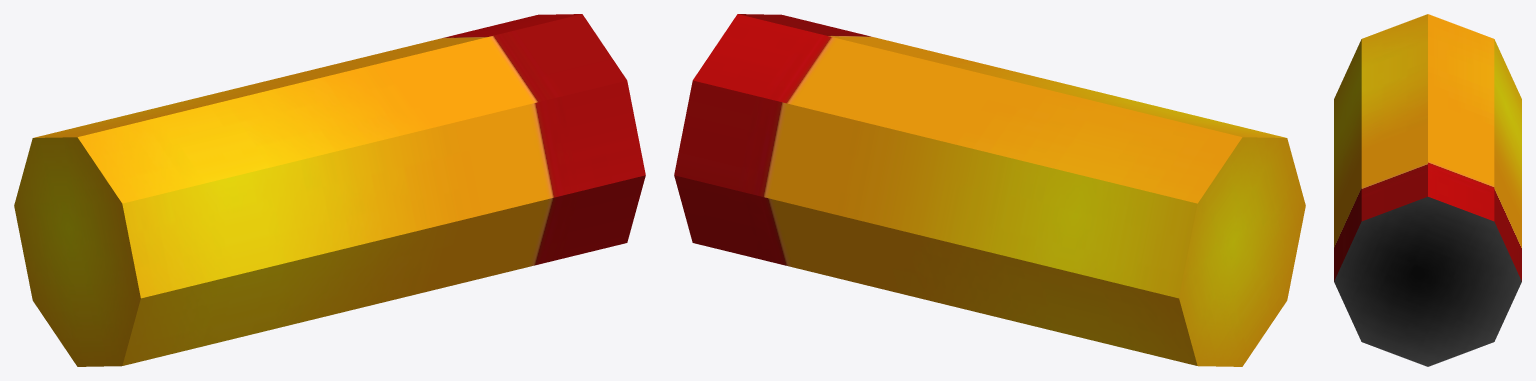
Rendered from shellBulletArena.fbx.
The picture shows the model from 3 angles, left to right: view 1: azimuth 30°, elevation 25°; view 2: azimuth 150°, elevation 25°; view 3: azimuth 270°, elevation 25°; orthographic projection. The views are drawn at different scales.
Parts seen in each view (by area): view 1: sheel; view 2: sheel; view 3: sheel.
Part boxes in pixels (<box>): sheel: <box>14,14,645,366</box>; sheel: <box>674,14,1305,366</box>; sheel: <box>1334,14,1521,366</box>.
Size of the model in its own units: 4.6 by 2 by 2.
